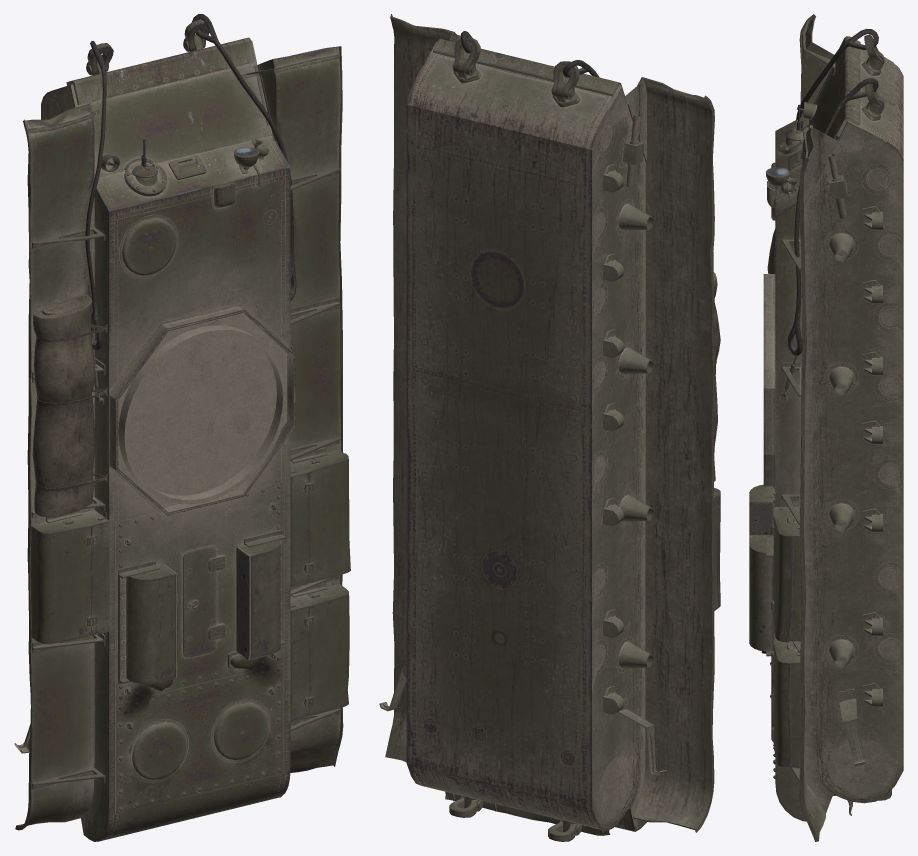
File: Hull.glb
3 renders of one model, left to right at view 1: azimuth 30°, elevation 25°; view 2: azimuth 150°, elevation 25°; view 3: azimuth 270°, elevation 25°, orthographic. The views are drawn at different scales.
Visible parts, largest first — view 1: set_0_group_0; view 2: set_0_group_0; view 3: set_0_group_0.
Boxes of the visible parts, x1=… form: set_0_group_0: x1=14, y1=14, x2=350, y2=841; set_0_group_0: x1=379, y1=14, x2=720, y2=841; set_0_group_0: x1=749, y1=14, x2=903, y2=841.
Size of the model in its own units: 3.41 by 7.95 by 1.53.
1 material, 1 textured.
